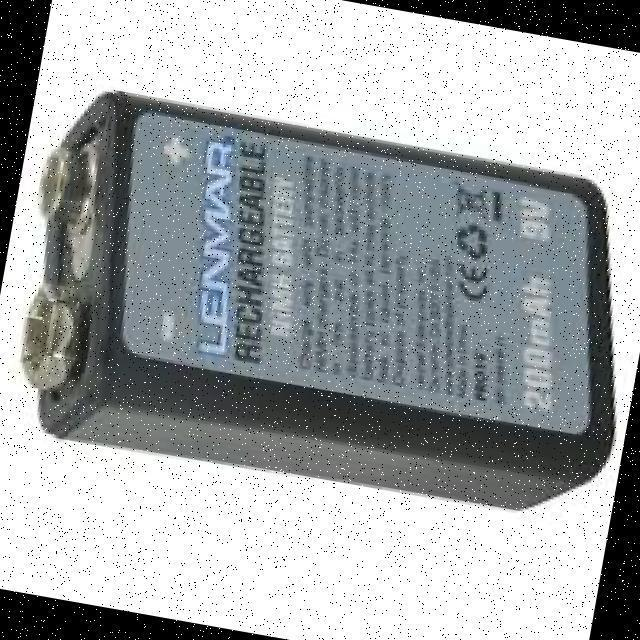9V: (21, 88, 615, 509)
